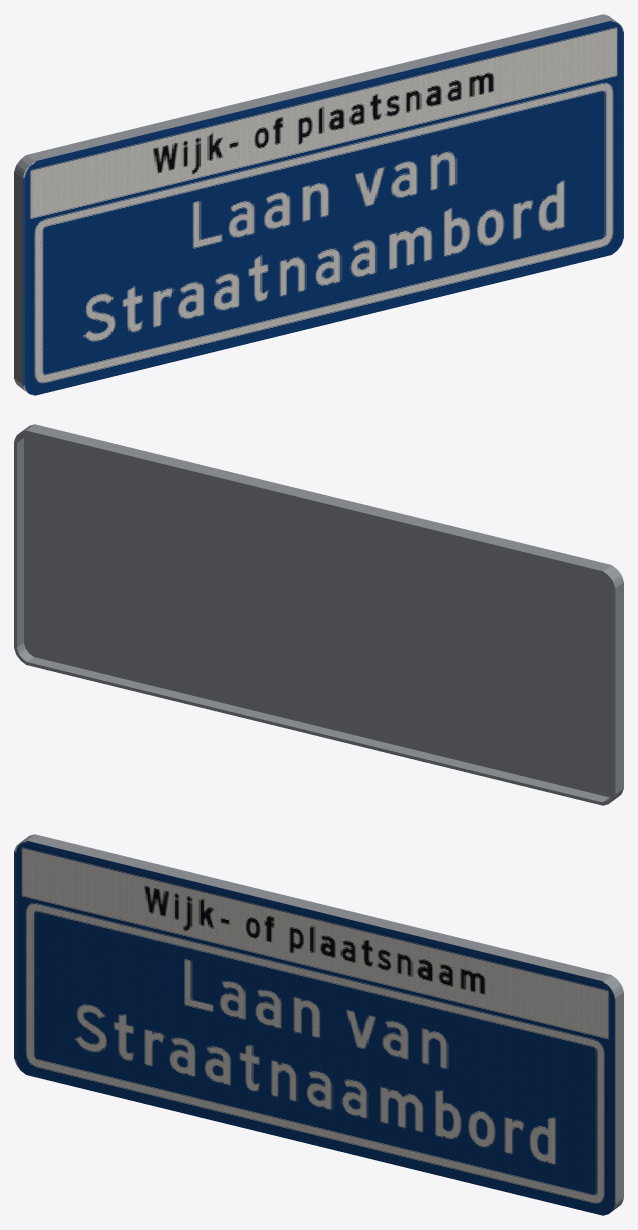
3 renders of one model, top to bottom at view 1: azimuth 30°, elevation 25°; view 2: azimuth 150°, elevation 25°; view 3: azimuth 330°, elevation 25°, orthographic.
Parts seen in each view (by area): view 1: cat_9a5609623e7e986d; view 2: cat_9a5609623e7e986d; view 3: cat_9a5609623e7e986d.
Boxes of the visible parts, left/top/right/bottom form: cat_9a5609623e7e986d: left=14, top=14, right=623, bottom=395; cat_9a5609623e7e986d: left=14, top=424, right=623, bottom=805; cat_9a5609623e7e986d: left=14, top=834, right=623, bottom=1215.
Bounding box in the file's own units: 0.6 × 0.015 × 0.2235.
2 materials, 1 textured.
